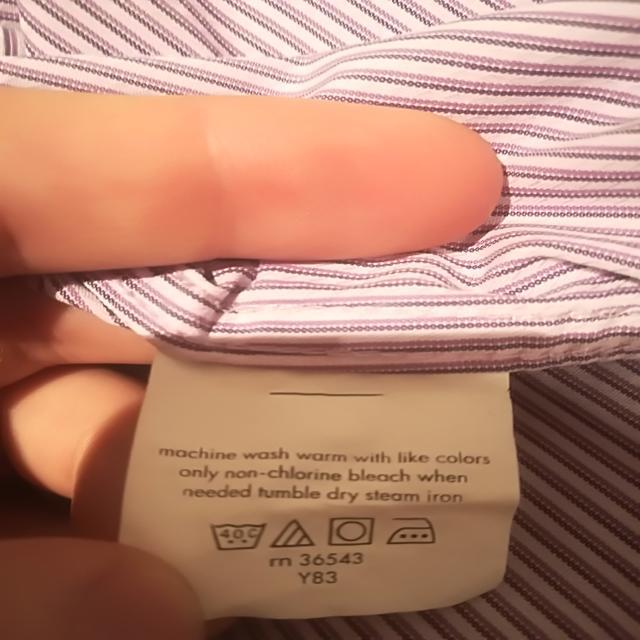40C: (208, 518, 269, 555)
iron_high: (387, 513, 442, 548)
non_chlorine_bleach: (270, 517, 316, 552)
tumble_dry_normal: (327, 516, 379, 549)
